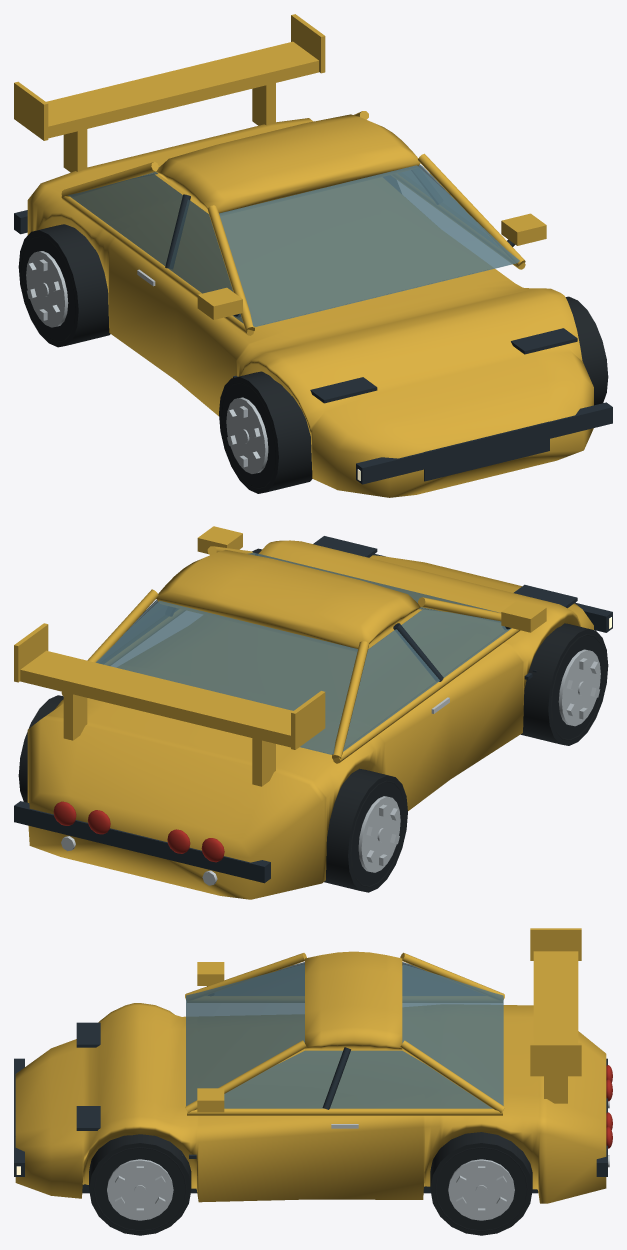
The model's file is rotor.glb.
3 renders of one model, top to bottom at view 1: azimuth 30°, elevation 25°; view 2: azimuth 150°, elevation 25°; view 3: azimuth 270°, elevation 25°, orthographic. The views are drawn at different scales.
Parts seen in each view (by area): view 1: exterior-paint, windows, black-trim, tire-rear-left, tire-front-left, rim-front-left, rim-rear-left, tire-front-right; view 2: exterior-paint, windows, black-trim, tire-front-left, tire-rear-left, rim-rear-left, rim-front-left, taillights, tire-rear-right; view 3: exterior-paint, windows, tire-rear-right, tire-front-right, rim-rear-right, rim-front-right, black-trim, taillights.
Boxes of the visible parts, box(x1,y1,x2,y2) form: exterior-paint: box(14, 14, 593, 497); windows: box(68, 164, 519, 326); black-trim: box(14, 194, 612, 484); tire-rear-left: box(18, 224, 110, 347); tire-front-left: box(219, 371, 312, 493); rim-front-left: box(226, 397, 268, 473); rim-rear-left: box(26, 251, 68, 327); tire-front-right: box(565, 296, 608, 405); exterior-paint: box(14, 526, 593, 899); windows: box(96, 552, 511, 754); black-trim: box(14, 536, 612, 883); tire-front-left: box(520, 623, 608, 745); tire-rear-left: box(324, 768, 407, 892); rim-rear-left: box(358, 796, 400, 872); rim-front-left: box(558, 649, 600, 726); taillights: box(53, 801, 224, 862); tire-rear-right: box(18, 695, 63, 802); exterior-paint: box(15, 928, 606, 1203); windows: box(186, 962, 503, 1108); tire-rear-right: box(430, 1132, 532, 1235); tire-front-right: box(89, 1134, 191, 1235); rim-rear-right: box(448, 1159, 514, 1220); rim-front-right: box(107, 1159, 173, 1220); black-trim: box(14, 986, 607, 1193); taillights: box(606, 1065, 612, 1148).
Bounding box in the file's own units: 1.98 × 1.17 × 3.51.
